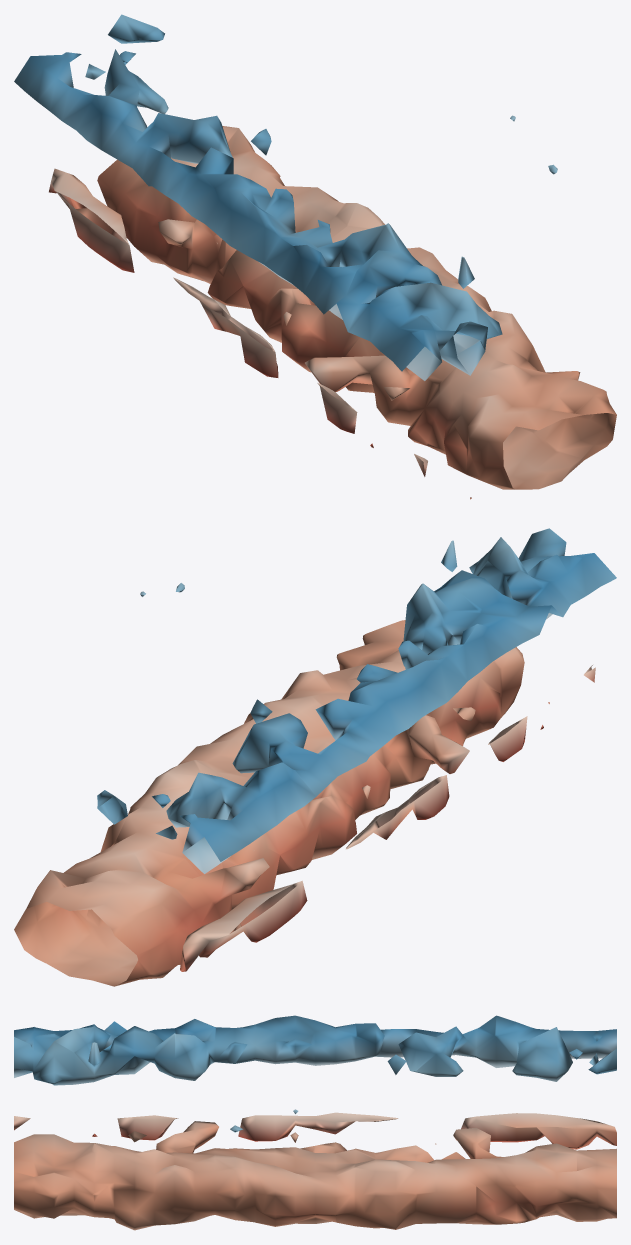
3 renders of one model, top to bottom at view 1: azimuth 30°, elevation 25°; view 2: azimuth 150°, elevation 25°; view 3: azimuth 270°, elevation 25°, orthographic. The views are drawn at different scales.
Bounding box in the file's own units: 1.1 × 0.7745 × 2.5.
